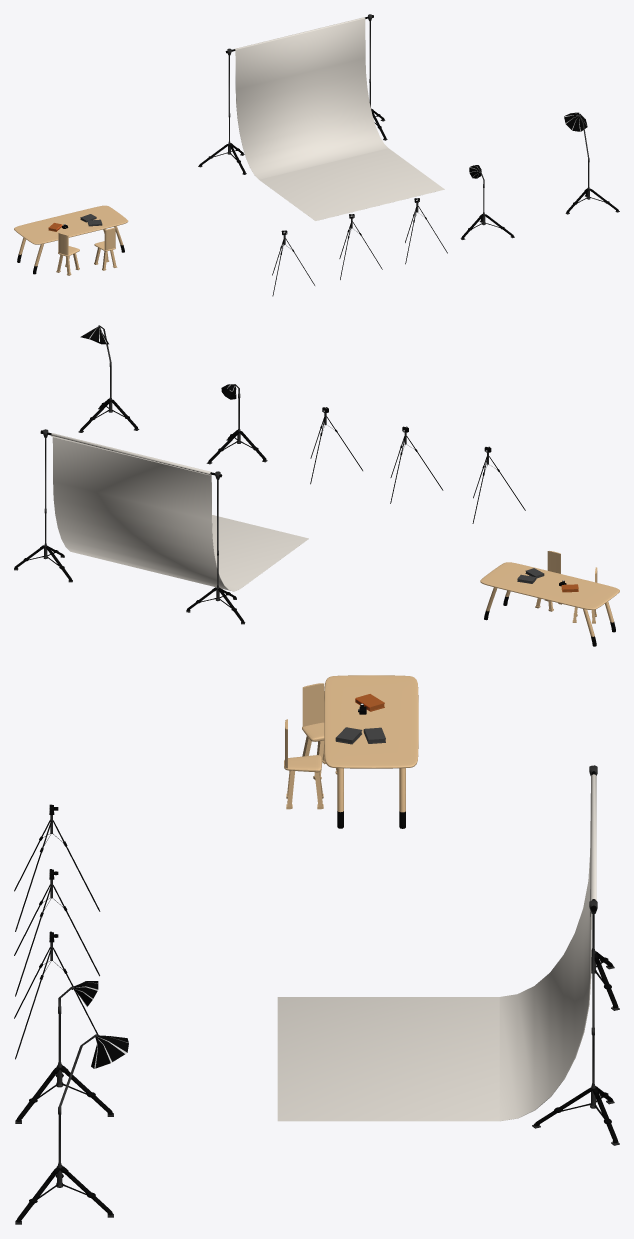
Rendered from 2Studio props.fbx.
The picture shows the model from 3 angles, top to bottom: view 1: azimuth 30°, elevation 25°; view 2: azimuth 150°, elevation 25°; view 3: azimuth 270°, elevation 25°; orthographic projection. The views are drawn at different scales.
Visible parts, largest first — view 1: White_Background, Cube.002, tripod_Light1, tripod_Light2; view 2: White_Background, Cube.002, tripod_Light1, tripod_Light2; view 3: White_Background, Cube.002, tripod_Light1, tripod_Light2.
Part boxes in pixels (x1=…): White_Background: x1=198, y1=14, x2=444, y2=220; Cube.002: x1=14, y1=205, x2=128, y2=275; tripod_Light1: x1=564, y1=112, x2=619, y2=214; tripod_Light2: x1=460, y1=165, x2=514, y2=239; White_Background: x1=14, y1=429, x2=308, y2=624; Cube.002: x1=480, y1=551, x2=619, y2=646; tripod_Light1: x1=78, y1=325, x2=139, y2=432; tripod_Light2: x1=206, y1=384, x2=267, y2=464; White_Background: x1=277, y1=765, x2=619, y2=1145; Cube.002: x1=284, y1=675, x2=418, y2=828; tripod_Light1: x1=15, y1=1034, x2=128, y2=1224; tripod_Light2: x1=15, y1=981, x2=113, y2=1123.
Size of the model in its own units: 6025 by 1300 by 3179.
